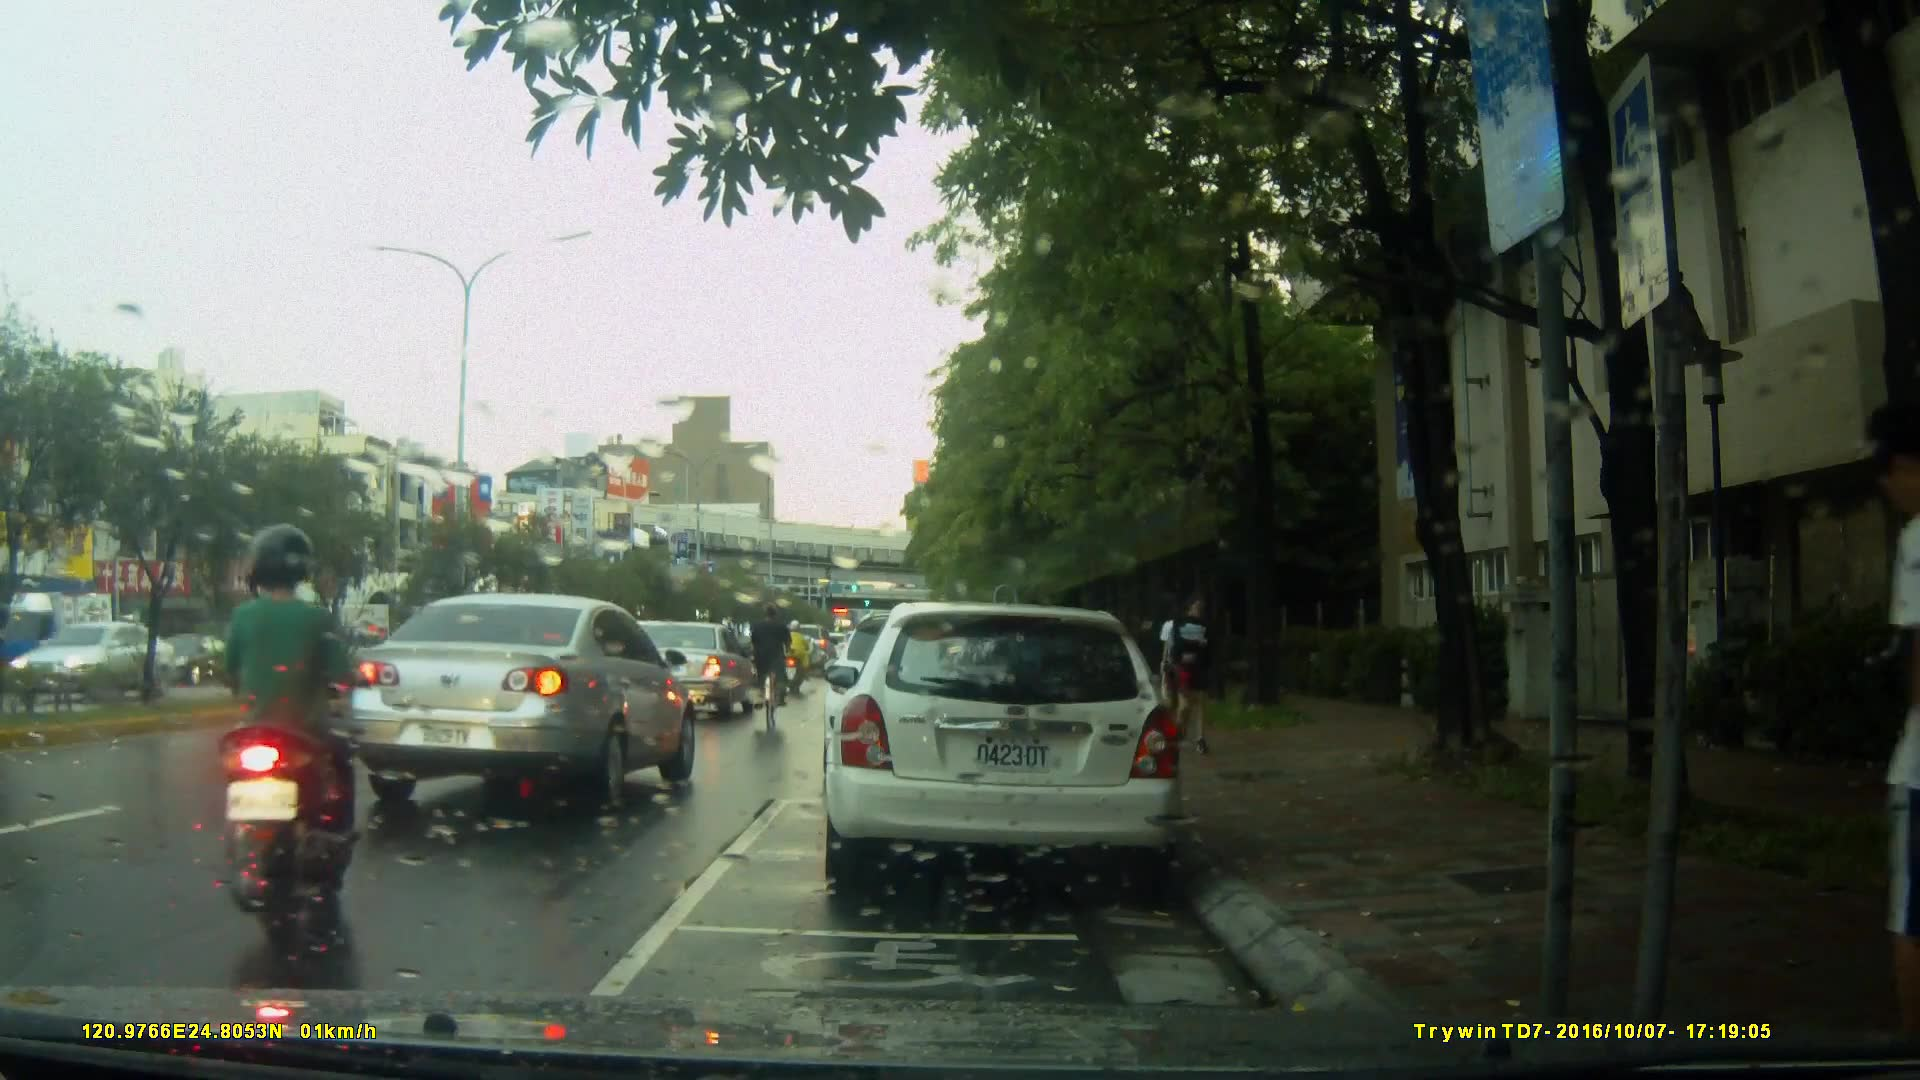pedestrian: (1162, 596, 1217, 743), (1149, 602, 1198, 732)
rider: (211, 522, 346, 960), (748, 604, 794, 746), (784, 615, 814, 696)
vehicle: (820, 602, 1188, 898), (347, 591, 702, 817), (607, 622, 760, 723), (1, 587, 129, 699), (13, 622, 181, 704), (134, 634, 239, 689)
